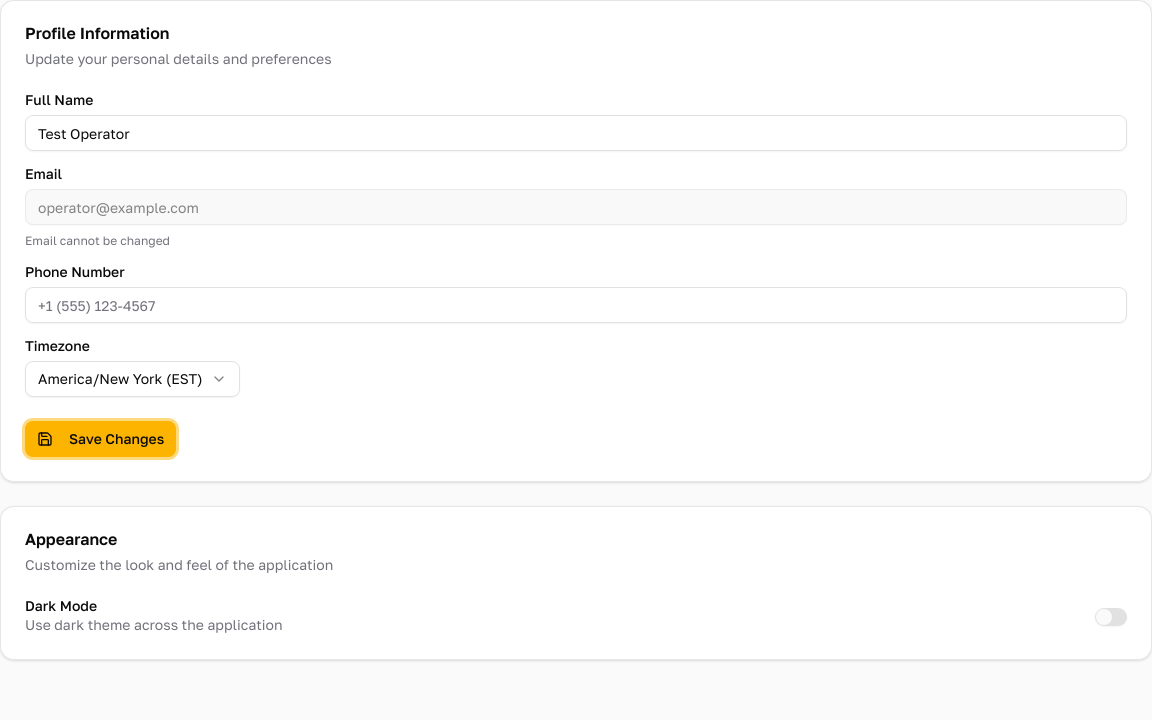
ProfileSettingsTab appearance preferences › keeps the save button focusable while in flight and blocks duplicate submits
Expected: the field labelled "Full Name" is shown, [25,115,1127,151]
Click the button "Save Changes".
click(101, 439)  # box [25,421,176,457]
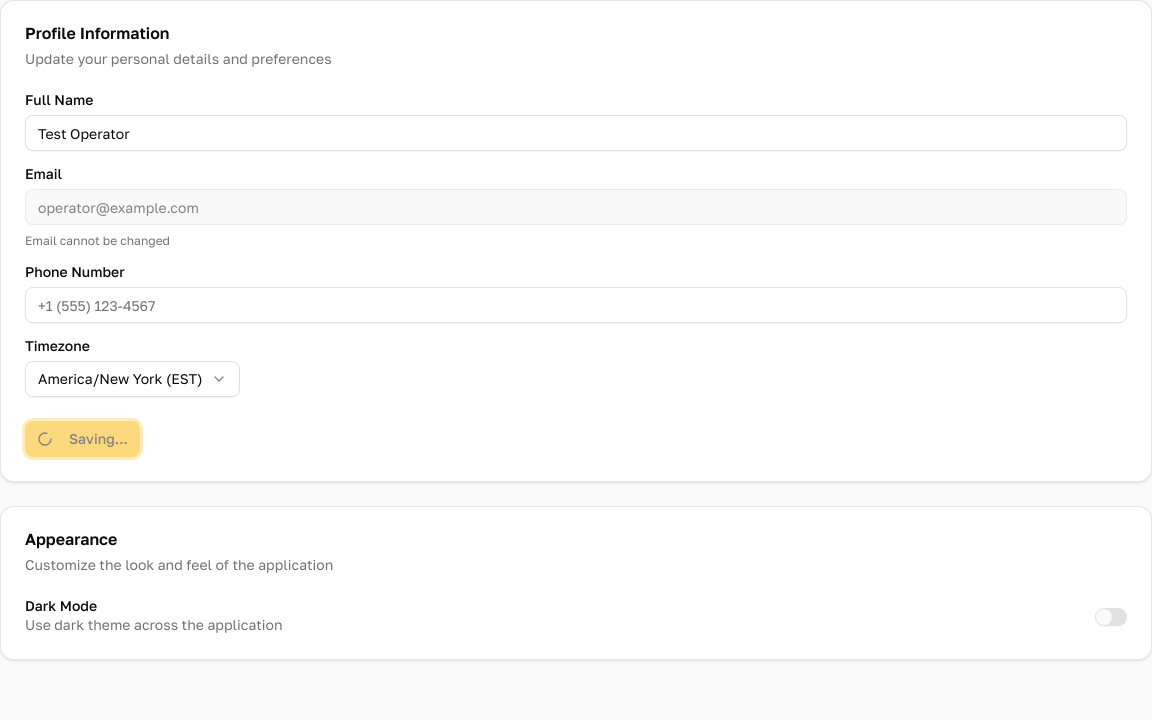
Now the button "Saving..." is enabled
Click the button "Saving...".
click(82, 439)  # box [25,421,140,457]
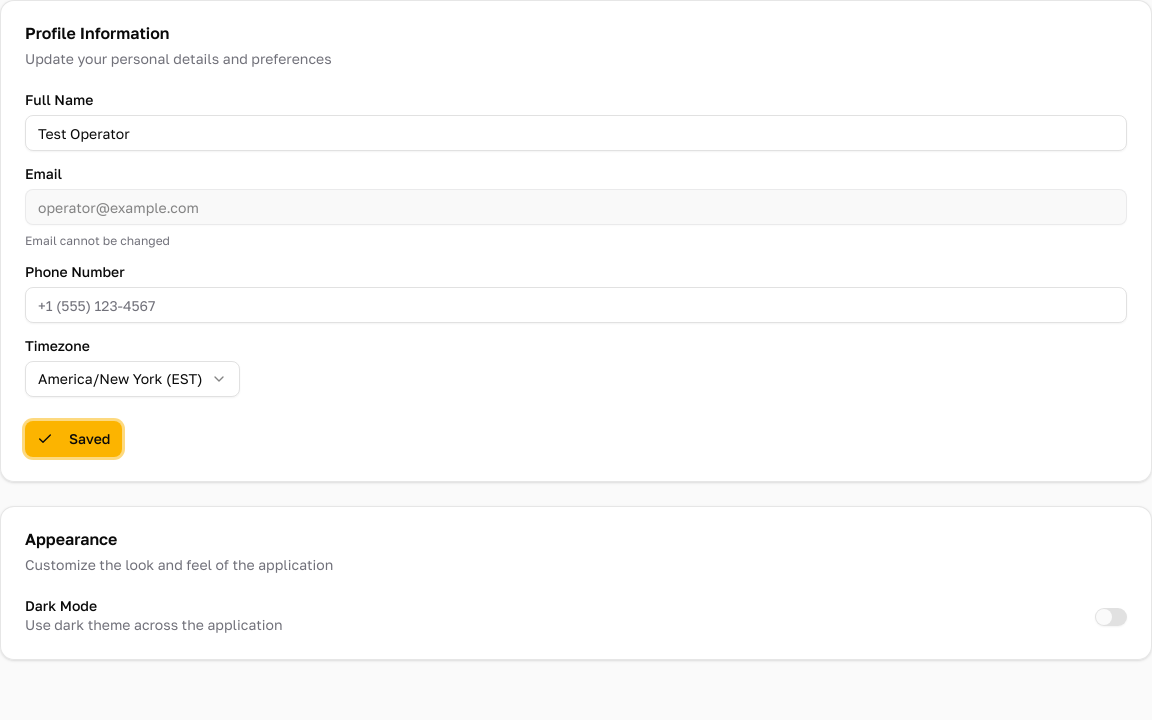
Now the button "Saved" is shown, box [25,421,122,457]
